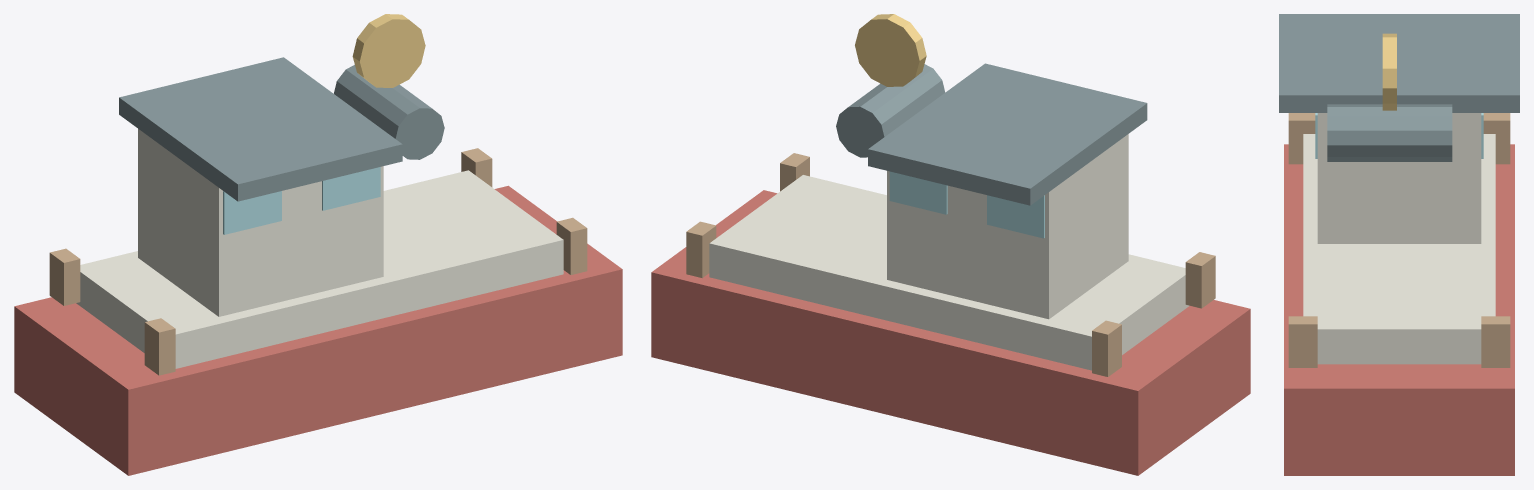
Rendered from riverboat.glb.
3 renders of one model, left to right at view 1: azimuth 30°, elevation 25°; view 2: azimuth 150°, elevation 25°; view 3: azimuth 270°, elevation 25°, orthographic. The views are drawn at different scales.
Visible parts, largest first — view 1: riverboat_red, riverboat_metal, riverboat_roof, riverboat_wood, riverboat_gold, riverboat_glass; view 2: riverboat_red, riverboat_metal, riverboat_roof, riverboat_wood, riverboat_gold, riverboat_glass; view 3: riverboat_metal, riverboat_red, riverboat_roof, riverboat_wood, riverboat_gold, riverboat_glass.
Part boxes in pixels (x1=…): riverboat_red: x1=14, y1=185, x2=622, y2=475; riverboat_metal: x1=76, y1=129, x2=563, y2=368; riverboat_roof: x1=119, y1=57, x2=444, y2=201; riverboat_wood: x1=49, y1=148, x2=587, y2=375; riverboat_gold: x1=352, y1=14, x2=425, y2=87; riverboat_glass: x1=223, y1=167, x2=380, y2=234; riverboat_red: x1=651, y1=190, x2=1250, y2=475; riverboat_metal: x1=709, y1=134, x2=1189, y2=370; riverboat_roof: x1=836, y1=63, x2=1147, y2=205; riverboat_wood: x1=686, y1=153, x2=1215, y2=376; riverboat_gold: x1=855, y1=14, x2=926, y2=86; riverboat_glass: x1=889, y1=171, x2=1044, y2=238; riverboat_metal: x1=1303, y1=113, x2=1495, y2=364; riverboat_red: x1=1284, y1=144, x2=1514, y2=475; riverboat_roof: x1=1279, y1=14, x2=1519, y2=161; riverboat_wood: x1=1288, y1=113, x2=1510, y2=367; riverboat_gold: x1=1382, y1=33, x2=1396, y2=110; riverboat_glass: x1=1315, y1=113, x2=1483, y2=158.
Size of the model in its own units: 60 by 40 by 25.
